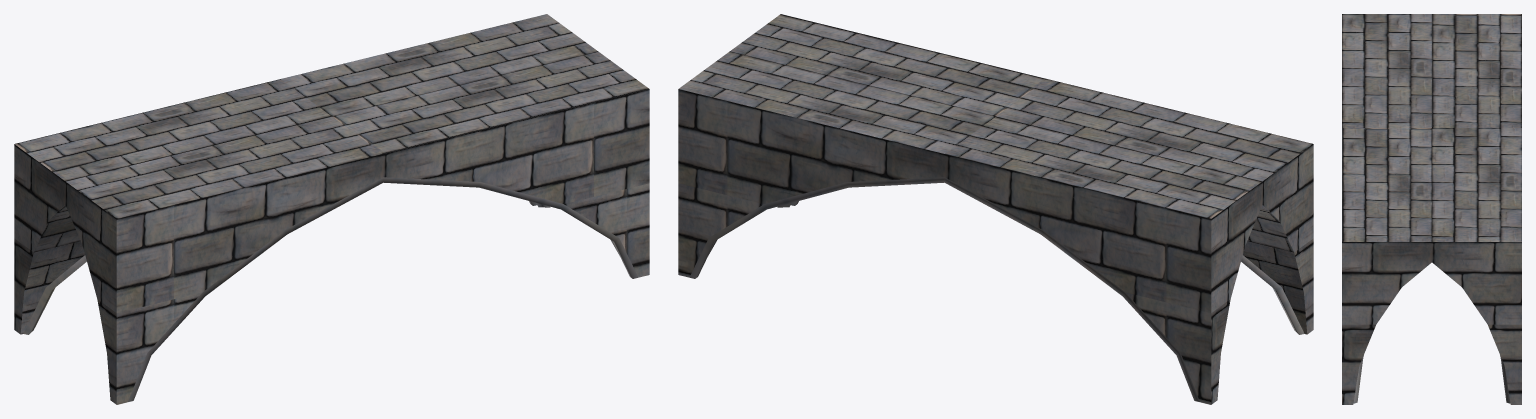
Rendered from vault_large_01.glb.
3 views of the same model, side by side, from view 1: azimuth 30°, elevation 25°; view 2: azimuth 150°, elevation 25°; view 3: azimuth 270°, elevation 25° (orthographic). The views are drawn at different scales.
Visible parts, largest first — view 1: vault_large_01; view 2: vault_large_01; view 3: vault_large_01.
Boxes of the visible parts, box(x1,y1,x2,y2) form: vault_large_01: box(14, 14, 649, 404); vault_large_01: box(678, 14, 1313, 404); vault_large_01: box(1342, 14, 1521, 404).
Bounding box in the file's own units: 24 × 8 × 8.
1 material, 1 textured.
